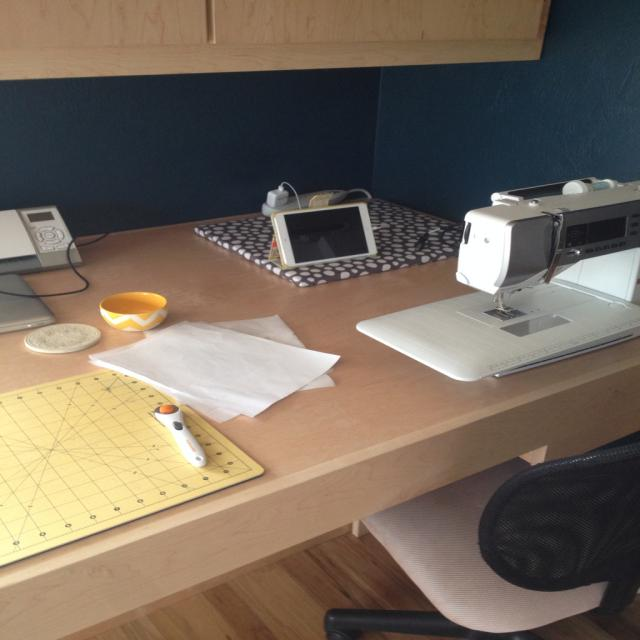chair: (326, 432, 639, 639)
desk: (0, 198, 639, 640)
